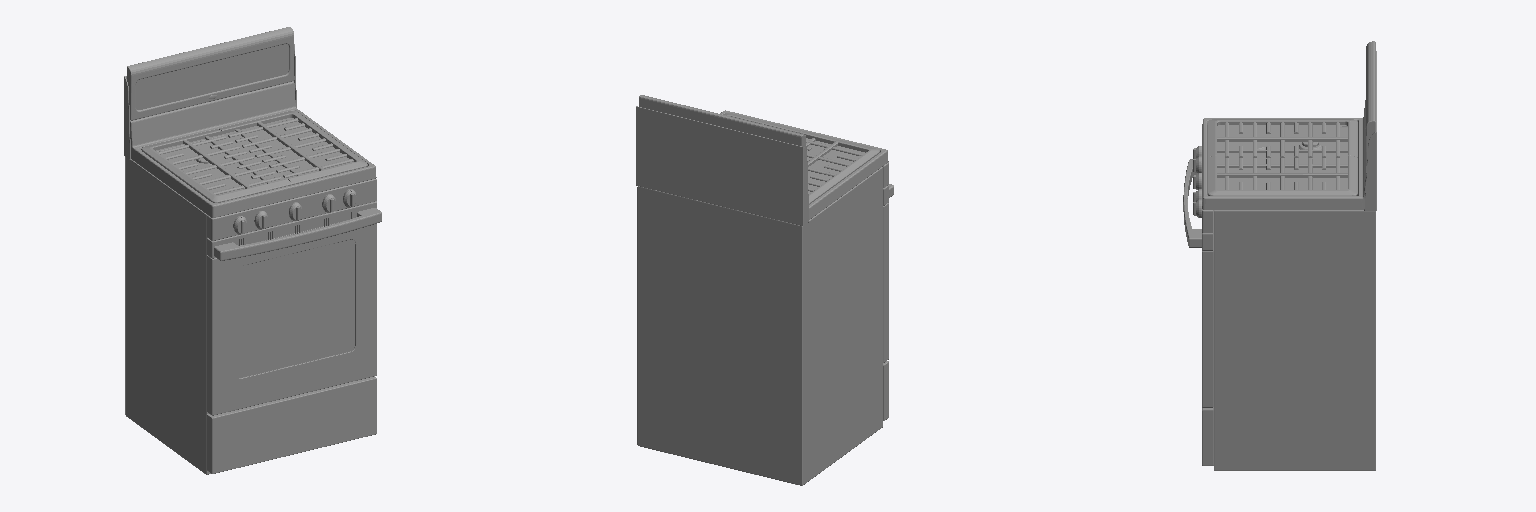
The model's file is Oven.obj.
The picture shows the model from 3 angles: view 1: azimuth 30°, elevation 25°; view 2: azimuth 150°, elevation 25°; view 3: azimuth 270°, elevation 25°; orthographic projection.
Visible parts, largest first — view 1: DB_Apps_Tech_04_13; view 2: DB_Apps_Tech_04_13; view 3: DB_Apps_Tech_04_13.
Part boxes in pixels (x1,y1,x2,y2): DB_Apps_Tech_04_13: (124, 27, 381, 474); DB_Apps_Tech_04_13: (636, 95, 893, 485); DB_Apps_Tech_04_13: (1183, 41, 1376, 470).
Size of the model in its own units: 0.5 by 1 by 0.5.